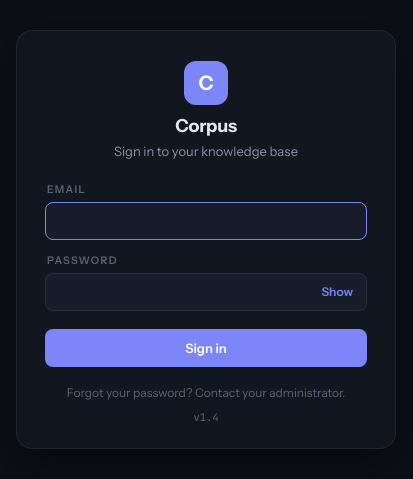
Test: FR-AUT-04 — errors › shows the message the provider returned, as an alert
The width and height of the screenshot is (413, 479).
Click the button "Sign in": (206, 348) [45, 328, 367, 366]
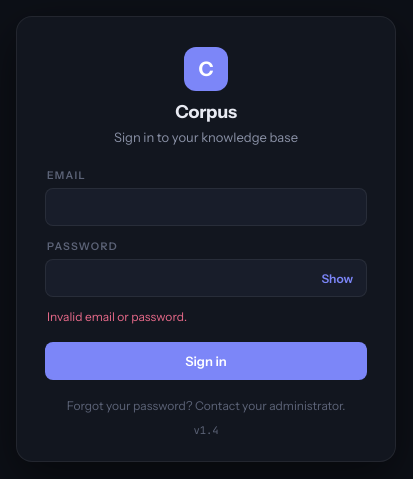
Expected: the message reads "Invalid email or password.", [47, 309, 187, 324]
